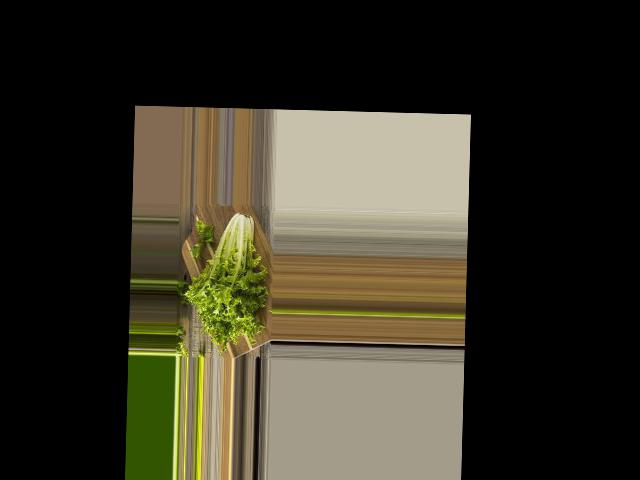lettuce: (185, 242, 291, 346)
